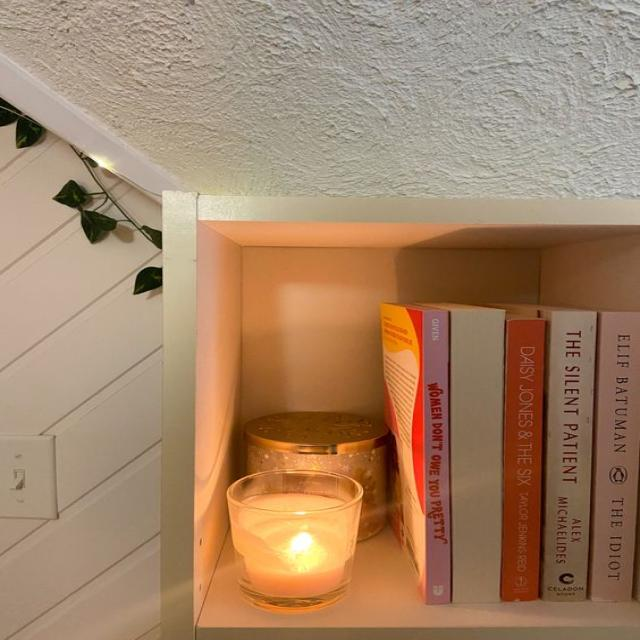book: (540, 311, 596, 601), (450, 306, 504, 603), (589, 312, 639, 601), (500, 318, 545, 601), (422, 311, 451, 607)
candle: (227, 471, 362, 609), (246, 412, 389, 540)
